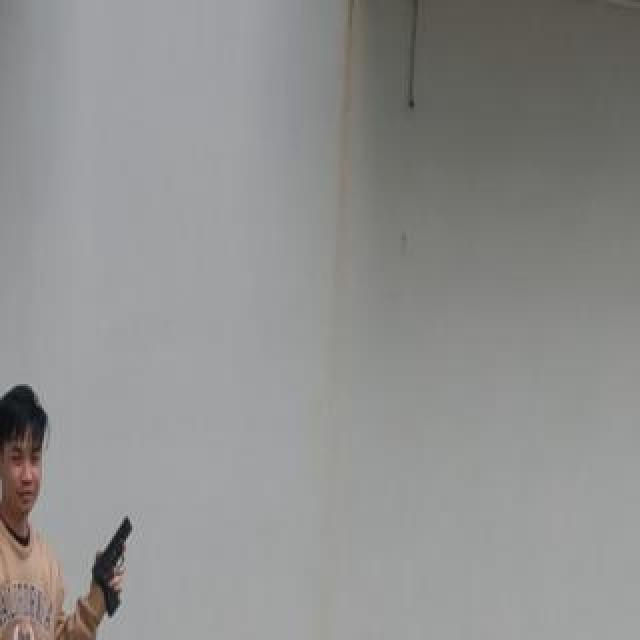Guns: (78, 502, 143, 639)
